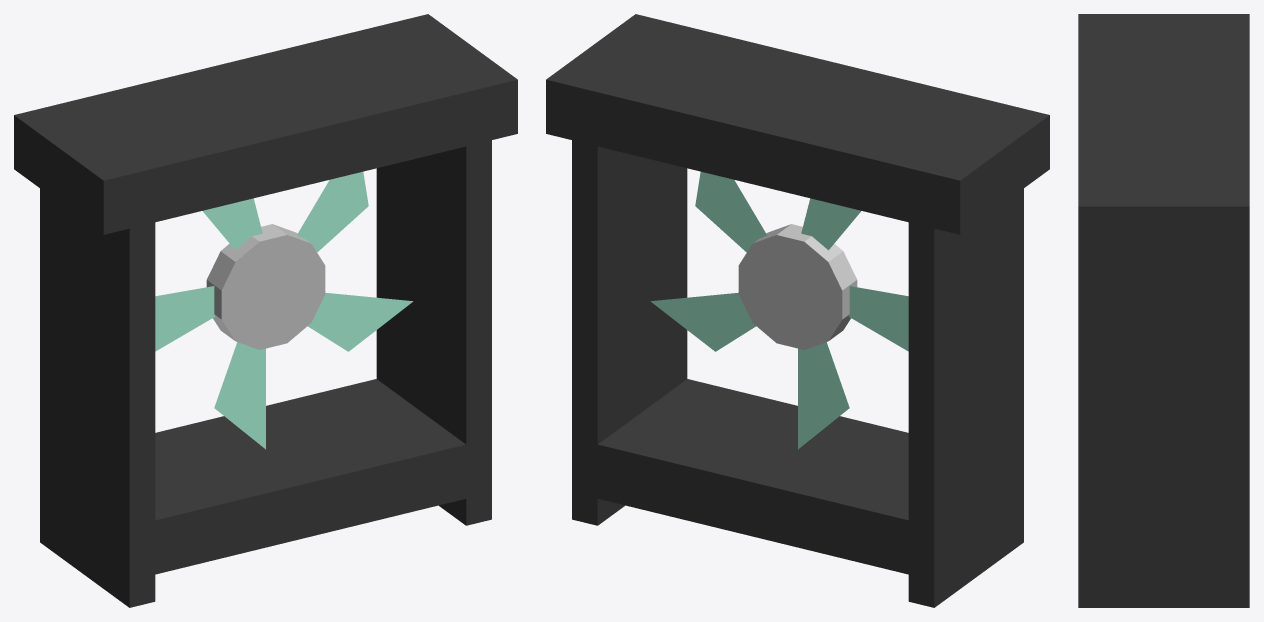
The model's file is box_fan.gltf.
The picture shows the model from 3 angles, left to right: view 1: azimuth 30°, elevation 25°; view 2: azimuth 150°, elevation 25°; view 3: azimuth 270°, elevation 25°; orthographic projection. The views are drawn at different scales.
Parts seen in each view (by area): view 1: mesh (×4), plane (×5), cylinder; view 2: mesh (×4), plane (×5), cylinder; view 3: mesh (×2).
Part boxes in pixels (left/top/right/bottom): mesh (×4): left=14, top=14, right=517, bottom=607; plane (×5): left=155, top=171, right=412, bottom=449; cylinder: left=206, top=224, right=325, bottom=349; mesh (×4): left=546, top=14, right=1049, bottom=607; plane (×5): left=651, top=171, right=908, bottom=449; cylinder: left=738, top=224, right=857, bottom=349; mesh (×2): left=1078, top=14, right=1249, bottom=607.
Bounding box in the file's own units: 0.5 × 0.5 × 0.1875.
6 materials, 6 textured.
